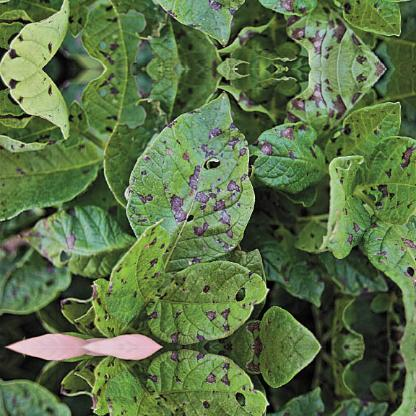Early-Blight: (124, 84, 272, 260), (150, 258, 266, 346), (104, 218, 180, 336), (149, 347, 266, 416), (0, 125, 98, 206), (124, 0, 271, 51), (249, 116, 327, 186), (18, 211, 102, 271), (359, 134, 415, 224), (46, 260, 114, 334), (104, 356, 180, 416), (310, 184, 368, 258), (46, 359, 114, 416), (364, 223, 416, 295), (291, 70, 359, 120), (291, 16, 359, 66), (249, 0, 327, 20), (364, 398, 415, 416)
